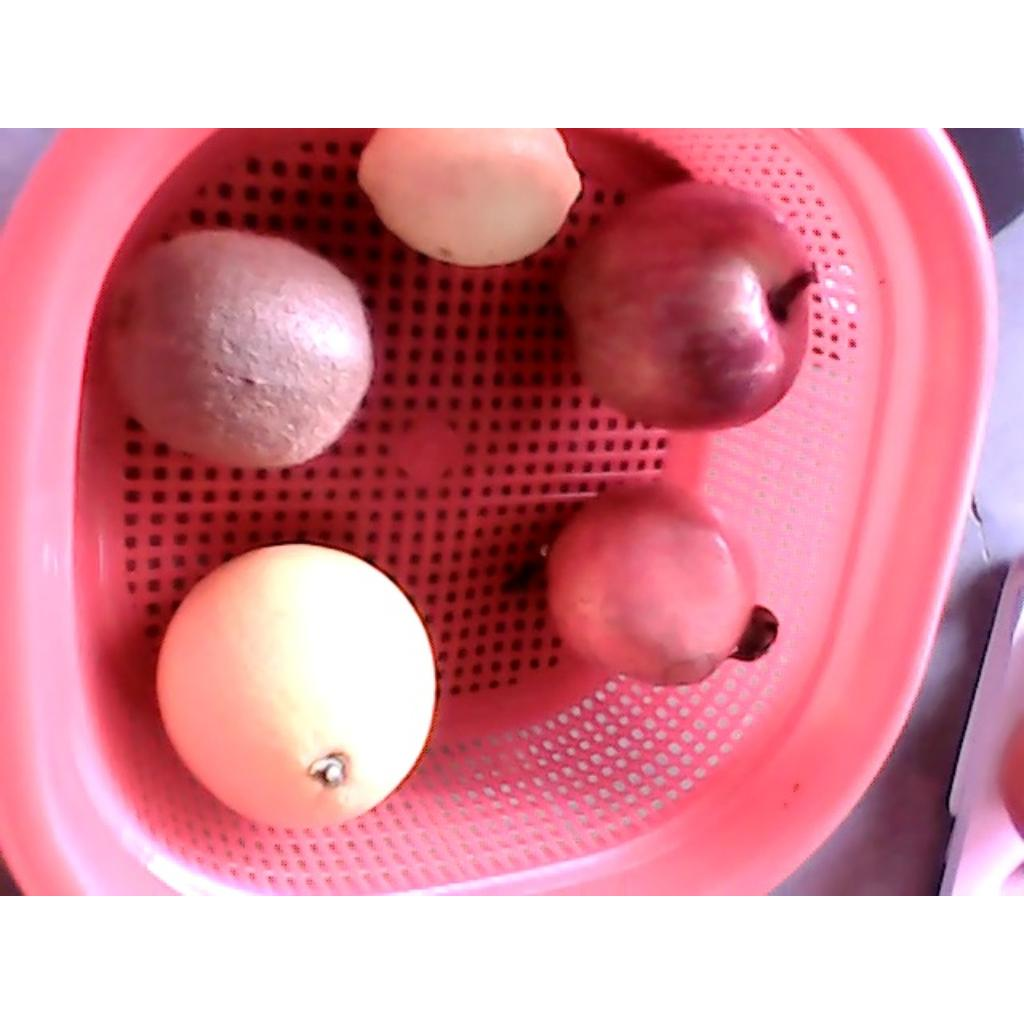apple: (556, 178, 819, 435)
kiwi: (97, 227, 376, 469)
lemon: (357, 128, 582, 267)
orange: (156, 544, 437, 831)
pomegranate: (541, 478, 780, 689)
